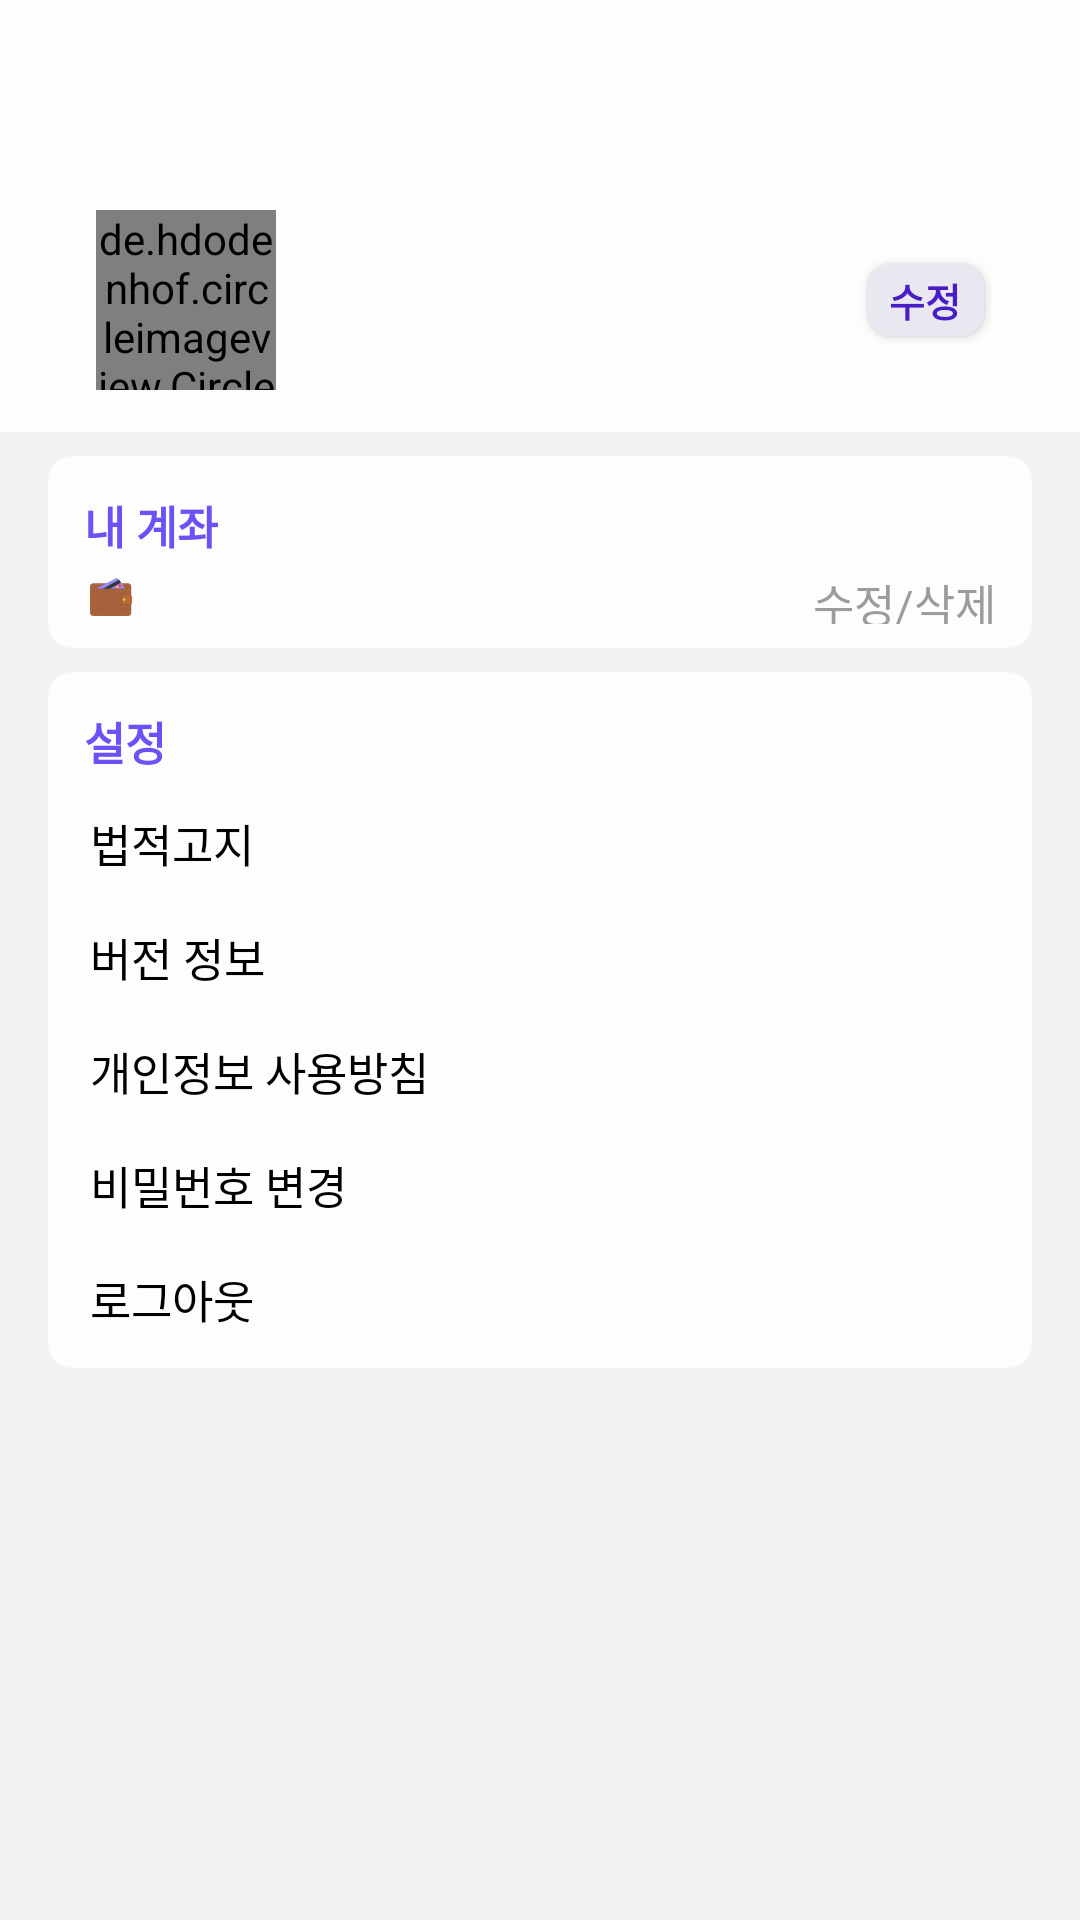

Icons on this 1080 × 1920 Android screen, each with its box as bbox=[x1, y1, x2, y2]:
wallet: bbox=[90, 578, 132, 616]
